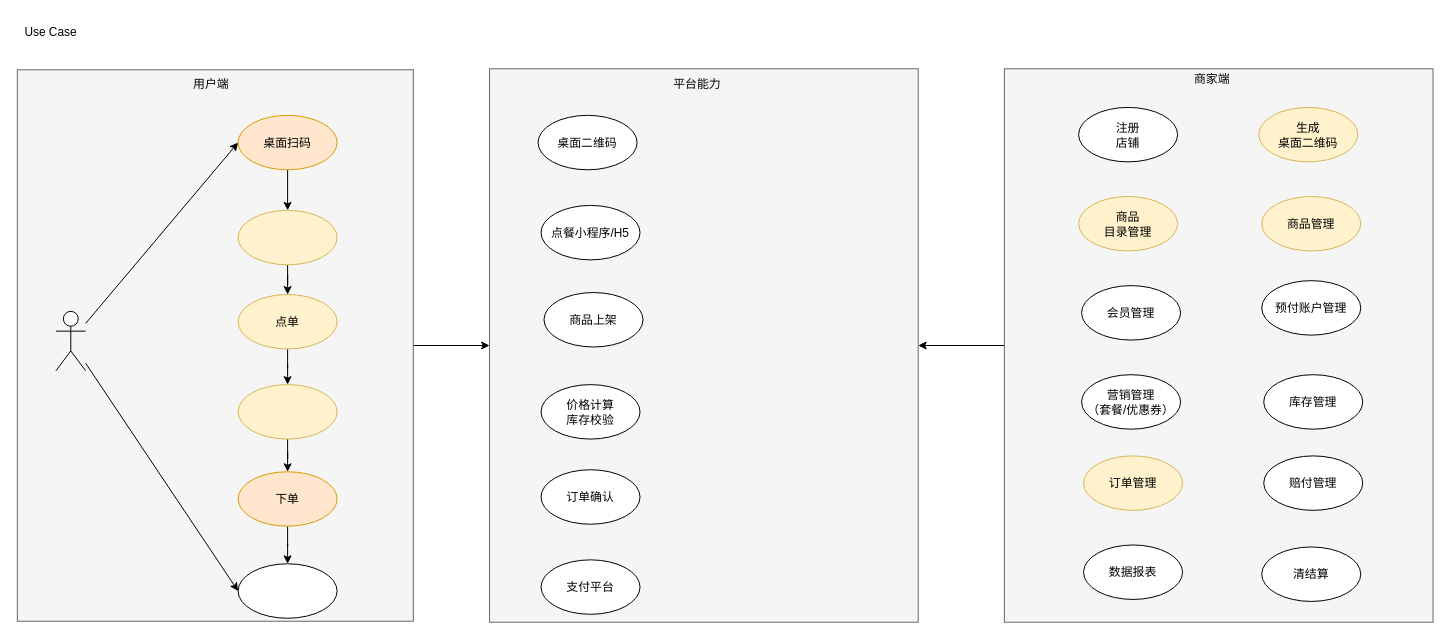
Image size: 1450x640. Some labels were removed from this diagram. The centre of each missing label's shape, as x and y in pixels:
支付: (x=287, y=590)
查看/修改/确认 购物车: (x=287, y=411)
进入小程序/H5: (x=287, y=237)
顾客: (x=70, y=340)
